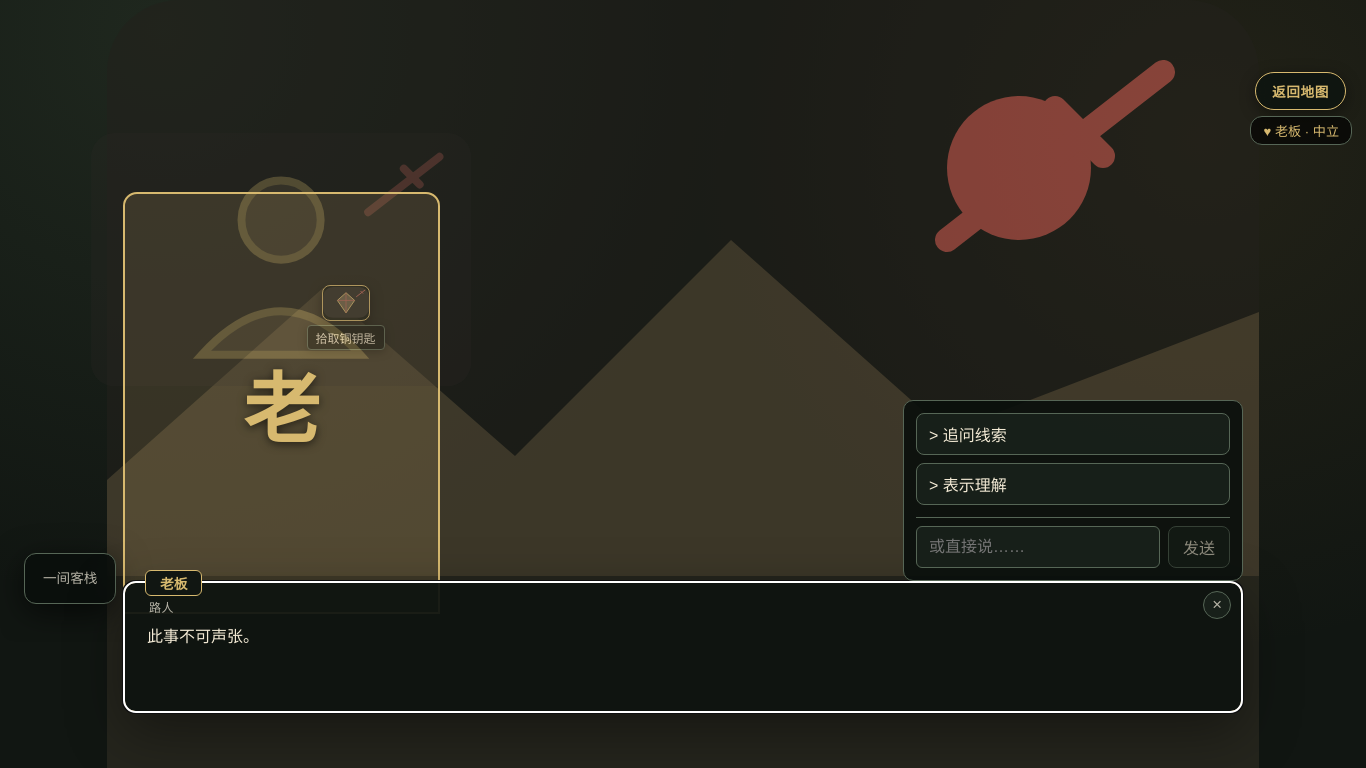
Test: AdventureGameShell canonical opaque choices › removes punctuation left behind when a quest-status prefix is cleaned from the side note
// 对话打开时旁注整条隐藏，先本地关闭再断言旁注内容净化规则。
Click the button named "关闭对话" at (1217, 605), box [1203, 591, 1231, 619]
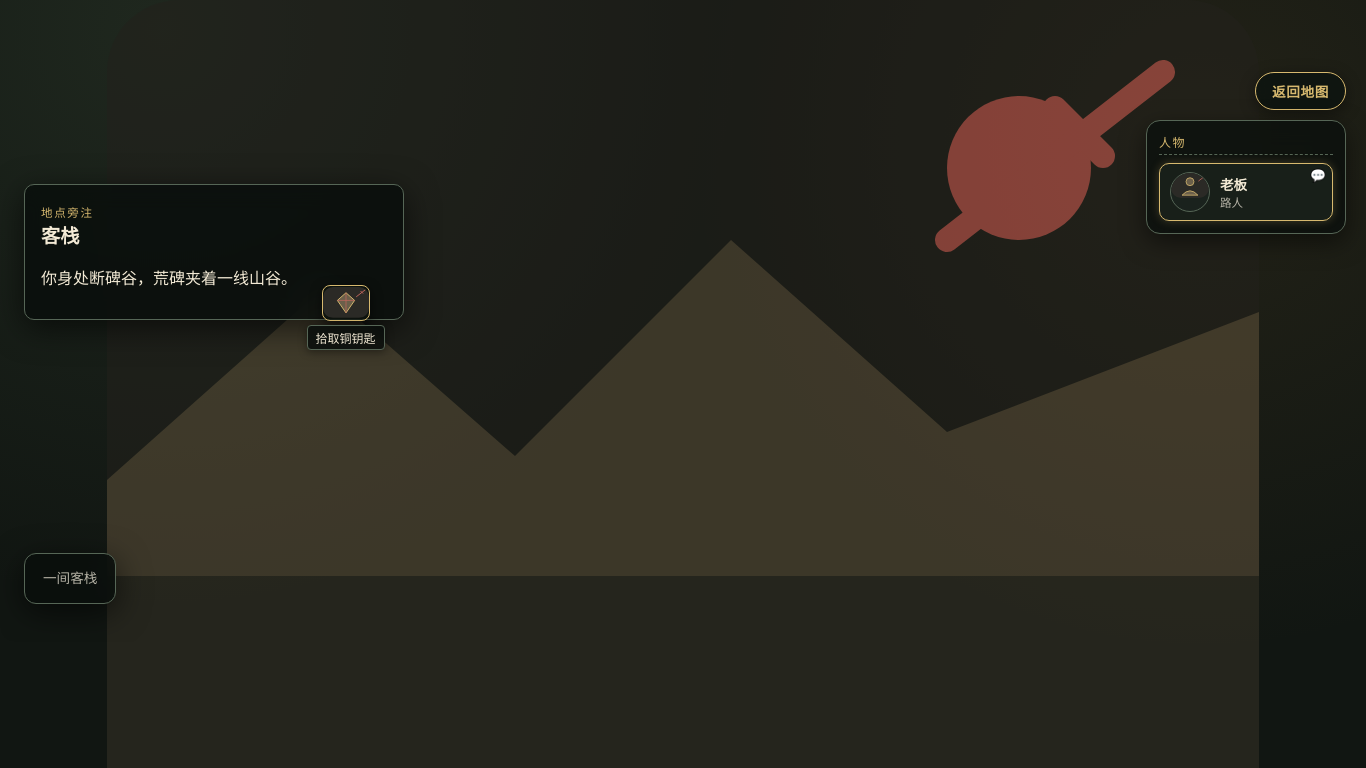
Expected: the element "地点旁注" does not show "。你身处", [24, 184, 404, 320]
Expected: the element "地点旁注" shows "你身处断碑谷，荒碑夹着一线山谷。", [41, 270, 297, 287]
